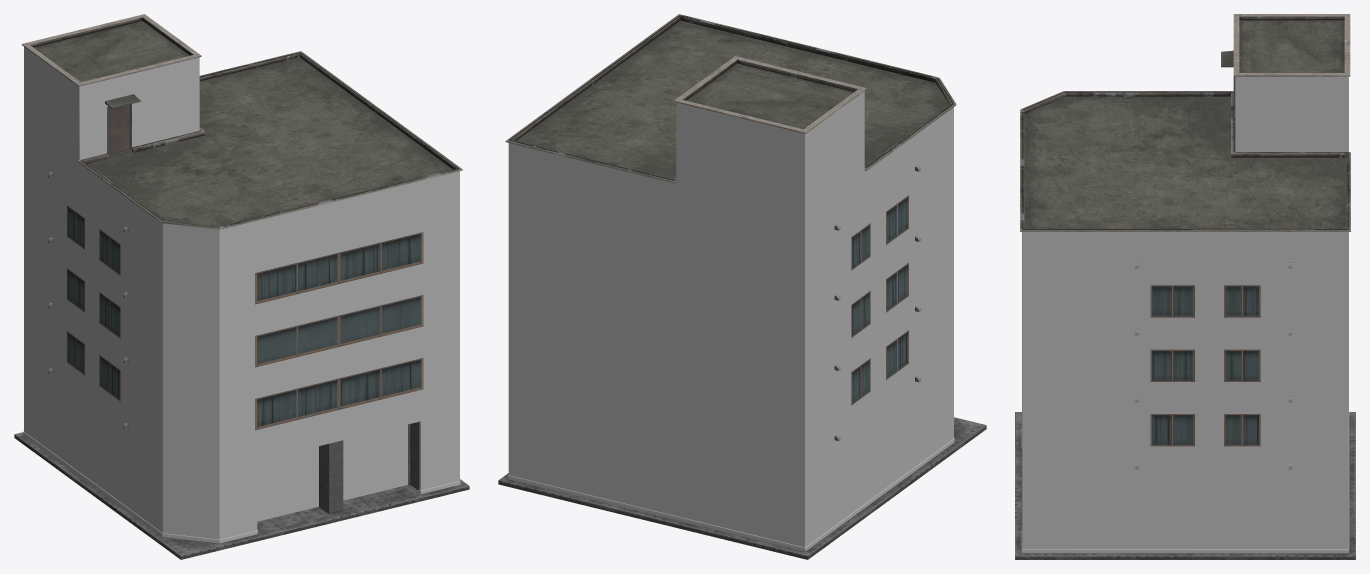
Rendered from BldK_low.fbx.
3 views of the same model, side by side, from view 1: azimuth 30°, elevation 25°; view 2: azimuth 150°, elevation 25°; view 3: azimuth 270°, elevation 25° (orthographic). The views are drawn at different scales.
Parts seen in each view (by area): view 1: BldK_low; view 2: BldK_low; view 3: BldK_low.
Part boxes in pixels (bbox=[...]): BldK_low: bbox=[14, 14, 469, 559]; BldK_low: bbox=[498, 14, 986, 559]; BldK_low: bbox=[1015, 14, 1355, 559].
Size of the model in its own units: 1200 by 1570 by 1200.
